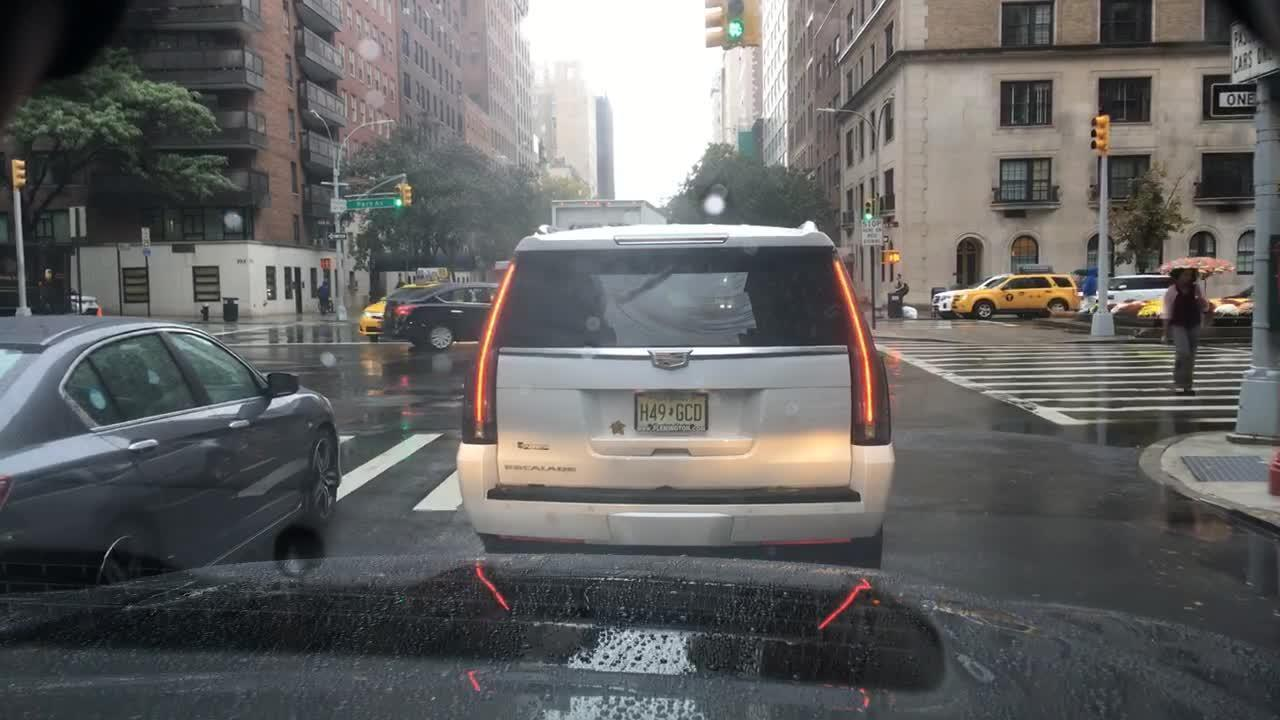cadillac: (636, 338, 734, 384)
